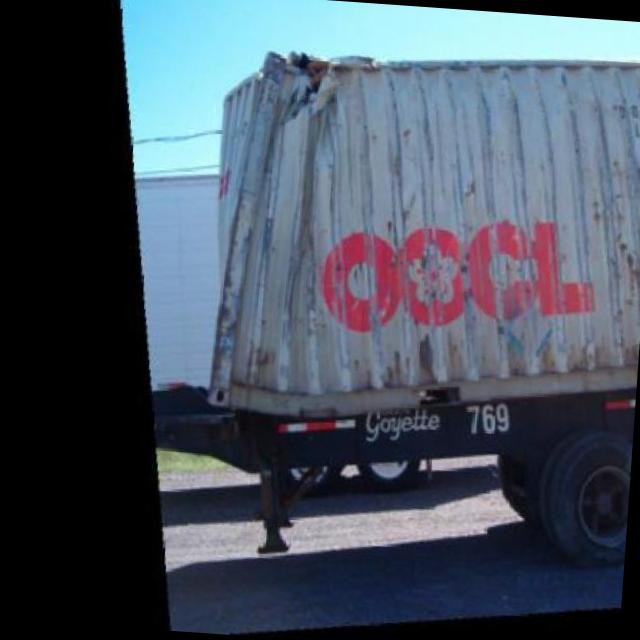Deframe_or_Dent: (247, 39, 383, 159)
Rust: (594, 63, 640, 366), (359, 310, 490, 397)
